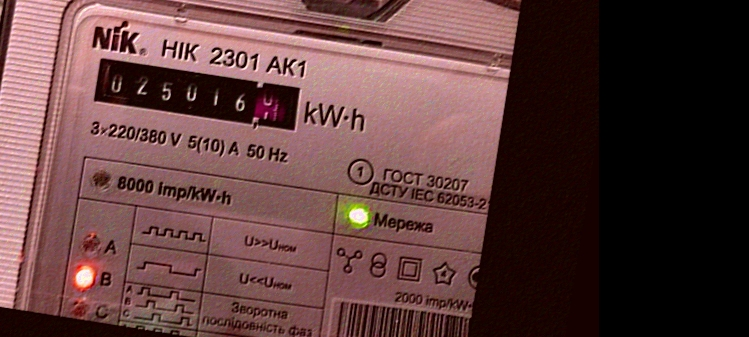0: (184, 80, 201, 105), (108, 72, 125, 96), (260, 87, 275, 108)
1: (208, 83, 223, 109), (260, 110, 270, 122)
2: (134, 73, 151, 98)
5: (159, 80, 173, 102)
6: (232, 90, 248, 116)
screen: (83, 47, 312, 142)
